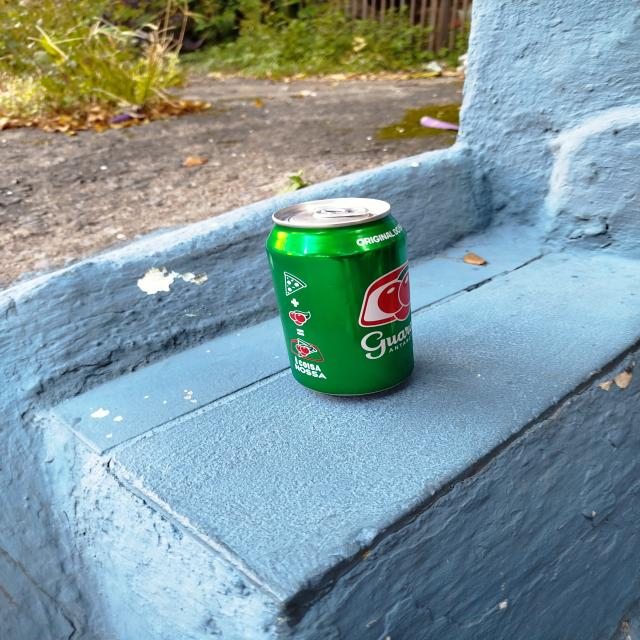Guarana: (265, 200, 410, 393)
